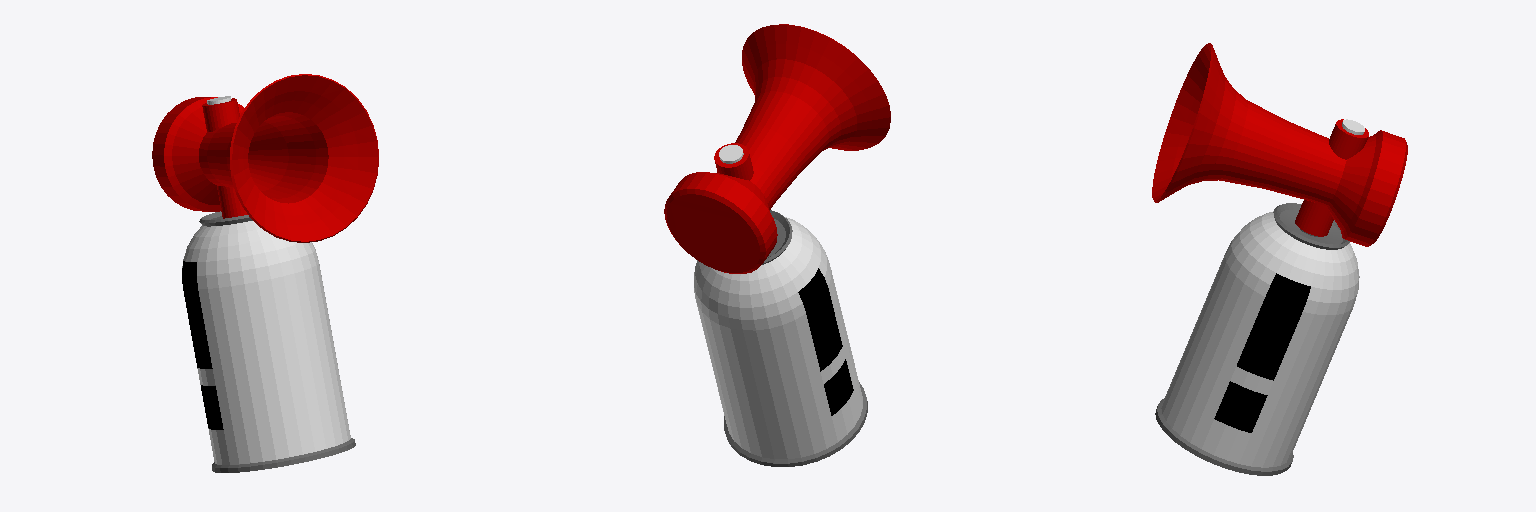
Rendered from airhorn.obj.
The picture shows the model from 3 angles: view 1: azimuth 30°, elevation 25°; view 2: azimuth 150°, elevation 25°; view 3: azimuth 270°, elevation 25°; orthographic projection.
Visible parts, largest first — view 1: Cylinder; view 2: Cylinder; view 3: Cylinder.
Boxes of the visible parts, <box> form: Cylinder: <box>152,74,378,472</box>; Cylinder: <box>664,24,890,466</box>; Cylinder: <box>1152,43,1407,475</box>.
Size of the model in its own units: 1.93 by 5.15 by 2.92.